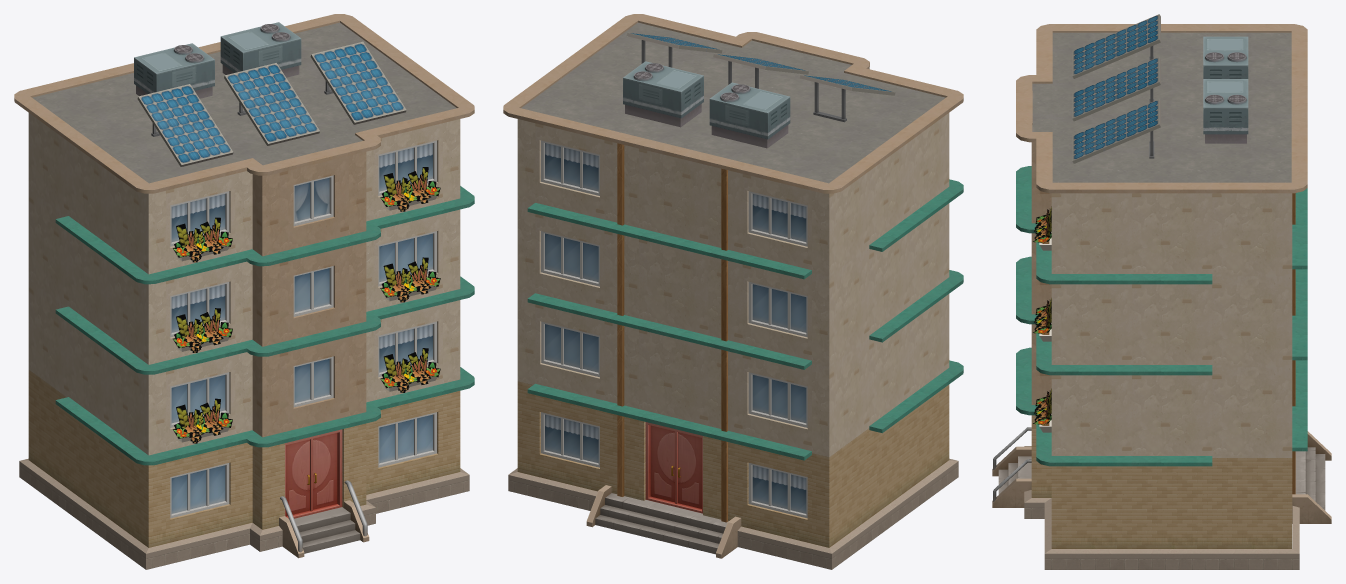
The model's file is Building_5.glb.
3 renders of one model, left to right at view 1: azimuth 30°, elevation 25°; view 2: azimuth 150°, elevation 25°; view 3: azimuth 270°, elevation 25°, orthographic.
Visible parts, largest first — view 1: Building_5_Decor_2; view 2: Building_5_Decor_2; view 3: Building_5_Decor_2.
Boxes of the visible parts, x1,y1,x2,y2 form: Building_5_Decor_2: [14, 14, 474, 569]; Building_5_Decor_2: [503, 14, 963, 569]; Building_5_Decor_2: [992, 14, 1331, 569].
Size of the model in its own units: 9.76 by 11.59 by 8.45.
28 materials, 28 textured.
